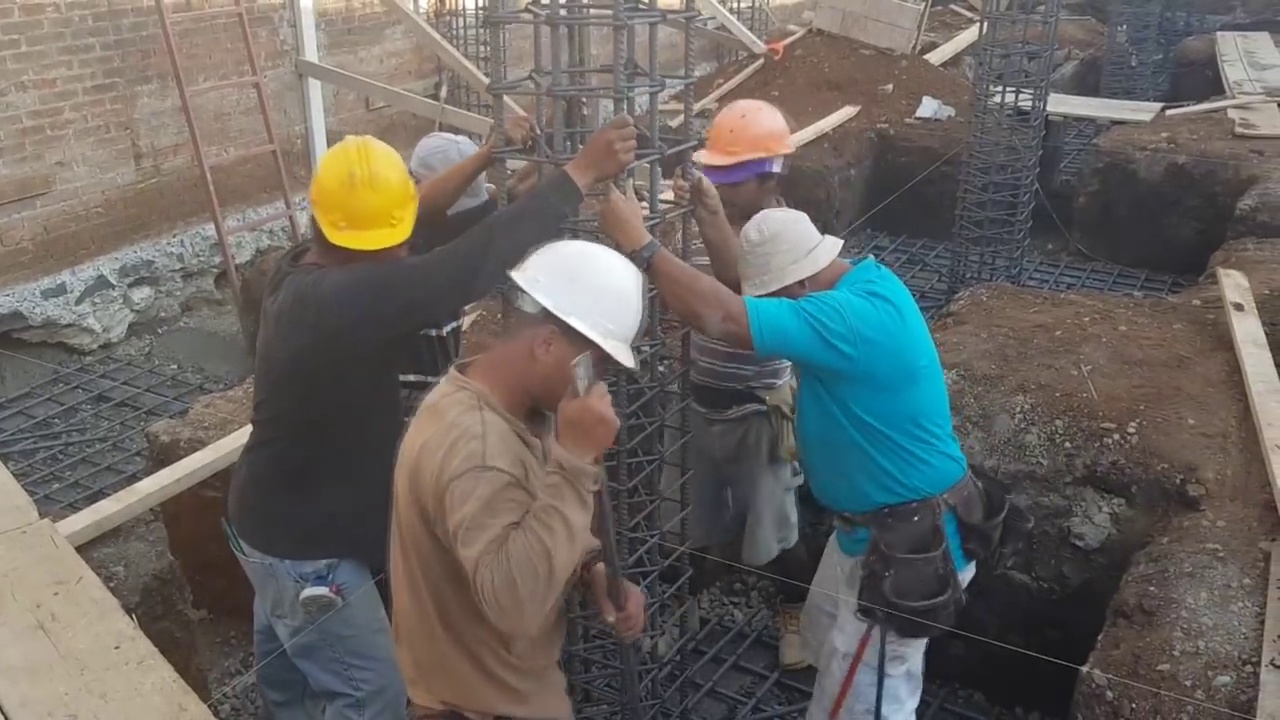helmet: (500, 235, 641, 361), (301, 131, 417, 253), (699, 96, 801, 171)
helmet-off: (726, 212, 850, 308), (406, 124, 494, 225)
helmet-on: (438, 234, 646, 434), (294, 133, 446, 267), (680, 96, 806, 230)
person: (227, 103, 631, 708), (600, 175, 988, 720), (384, 238, 680, 719), (654, 92, 830, 682)
